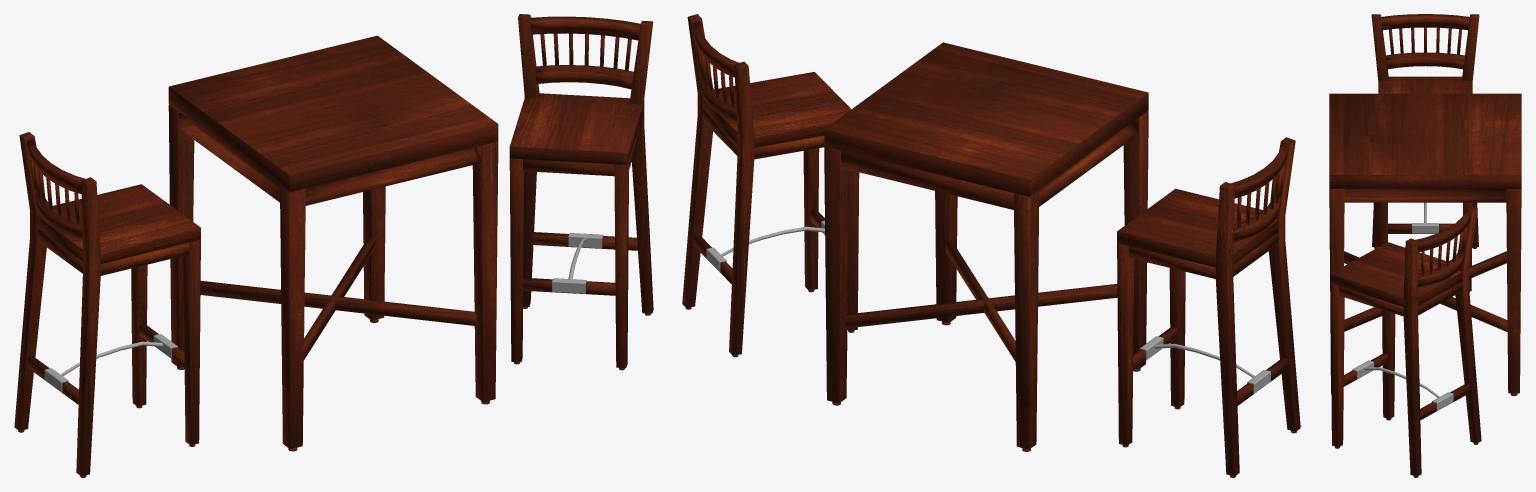
Rendered from bar_table_and_chairs.fbx.
The picture shows the model from 3 angles, left to right: view 1: azimuth 30°, elevation 25°; view 2: azimuth 150°, elevation 25°; view 3: azimuth 270°, elevation 25°; orthographic projection. The views are drawn at different scales.
Visible parts, largest first — view 1: table, wood_stool, wood_stool.001, stool_support2, stool_support, stool_link2, stool_link; view 2: table, wood_stool, wood_stool.001, stool_support, stool_support2, stool_link, stool_link2; view 3: table, wood_stool.001, wood_stool, stool_support, stool_support2, stool_link2, stool_link.
Part boxes in pixels (<box>): table: <box>168,35,498,451</box>; wood_stool: <box>14,132,200,477</box>; wood_stool.001: <box>509,14,653,370</box>; stool_support2: <box>529,16,640,89</box>; stool_support: <box>26,139,85,237</box>; stool_link2: <box>552,233,603,293</box>; stool_link: <box>44,334,177,392</box>; table: <box>824,42,1148,451</box>; wood_stool: <box>1117,137,1300,477</box>; wood_stool.001: <box>682,14,859,357</box>; stool_support: <box>1230,144,1288,241</box>; stool_support2: <box>693,21,738,120</box>; stool_link: <box>1139,336,1271,393</box>; stool_link2: <box>706,220,824,272</box>; table: <box>1329,93,1521,395</box>; wood_stool.001: <box>1330,205,1481,477</box>; wood_stool: <box>1371,14,1479,291</box>; stool_support: <box>1381,14,1469,69</box>; stool_support2: <box>1415,211,1471,286</box>; stool_link2: <box>1352,360,1453,410</box>; stool_link: <box>1412,202,1438,233</box>.
Size of the model in its own units: 2.31 by 1.08 by 0.8.
